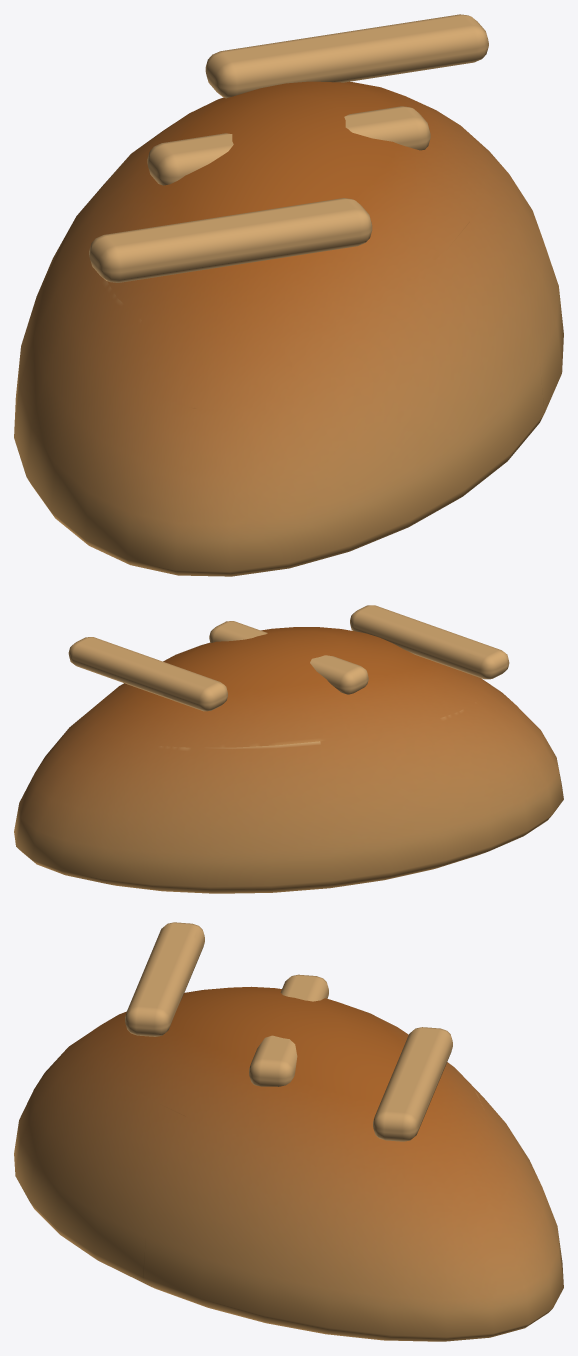
Rendered from item_bread.glb.
3 renders of one model, top to bottom at view 1: azimuth 30°, elevation 25°; view 2: azimuth 150°, elevation 25°; view 3: azimuth 270°, elevation 25°, orthographic. The views are drawn at different scales.
Visible parts, largest first — view 1: bread; view 2: bread; view 3: bread.
Boxes of the visible parts, x1,y1,x2,y2 form: bread: [14, 14, 563, 576]; bread: [14, 605, 563, 893]; bread: [14, 922, 563, 1341].
Bounding box in the file's own units: 0.5332 × 0.26 × 0.5332.
Materials: 1 (1 with a texture image).
